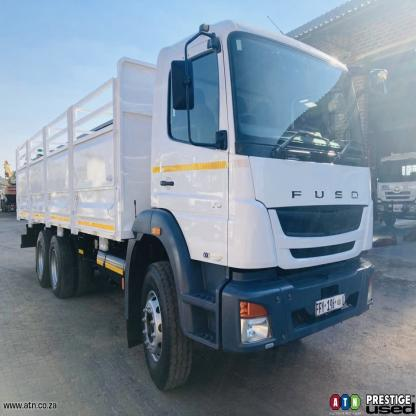dump_truck: (13, 14, 387, 392)
